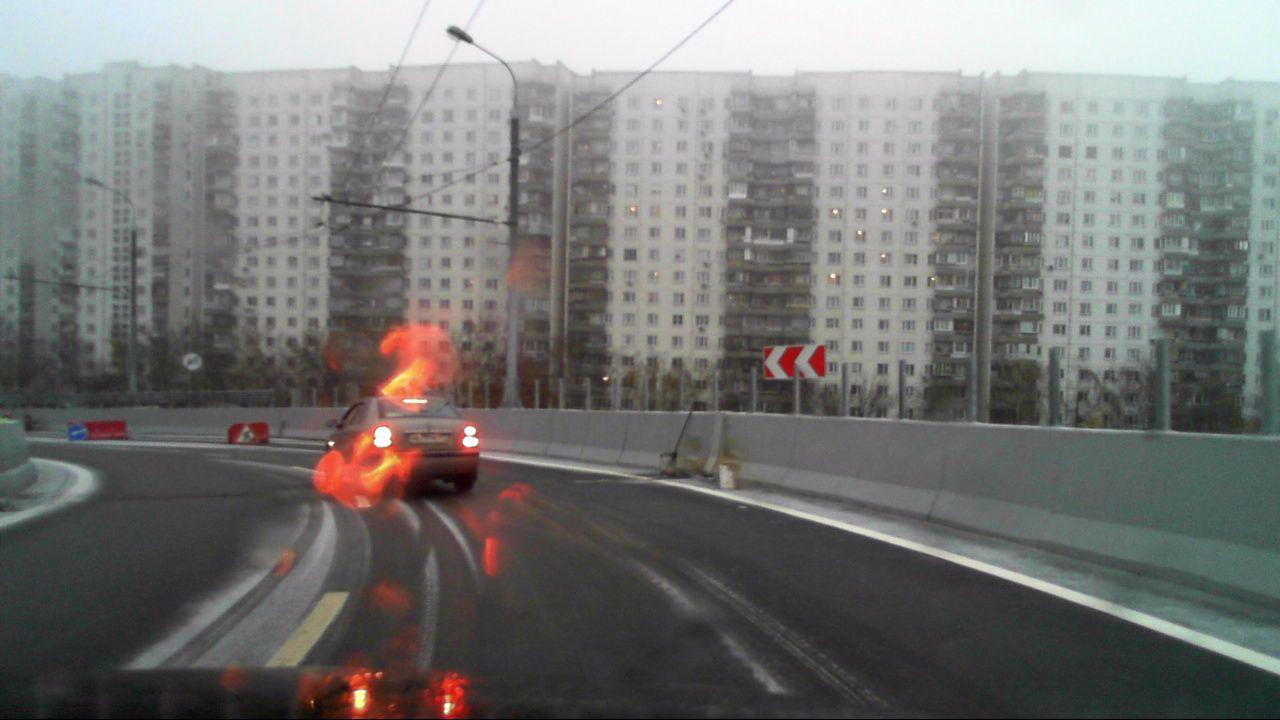road_sign: (763, 344, 826, 378)
